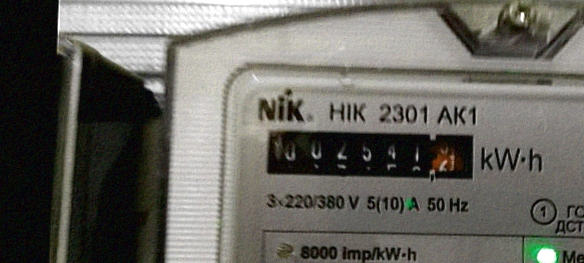0: (281, 137, 300, 163), (309, 135, 324, 162)
1: (409, 136, 423, 164)
2: (333, 136, 350, 161)
4: (385, 137, 399, 160)
5: (358, 136, 377, 164)
6: (435, 154, 451, 173)
screen: (254, 114, 489, 193)
